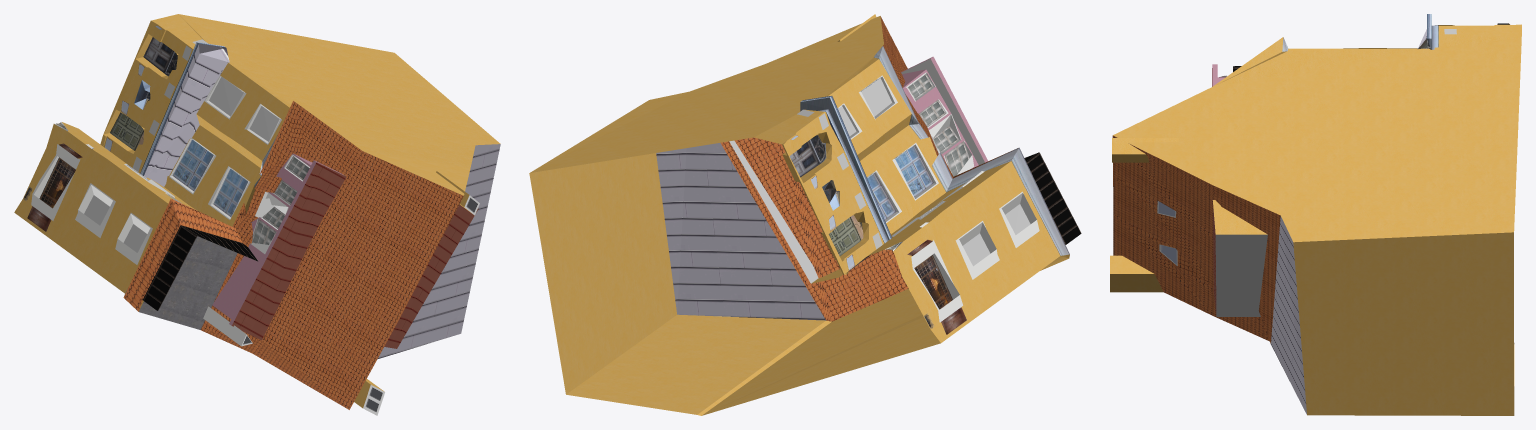
The model's file is Olevimagi_4-origo.obj.
3 views of the same model, side by side, from view 1: azimuth 30°, elevation 25°; view 2: azimuth 150°, elevation 25°; view 3: azimuth 270°, elevation 25° (orthographic). The views are drawn at different scales.
Parts seen in each view (by area): view 1: Olevimagi_4; view 2: Olevimagi_4; view 3: Olevimagi_4.
Part boxes in pixels (x1,y1,x2,y2): Olevimagi_4: (14,14,500,415); Olevimagi_4: (529,14,1081,415); Olevimagi_4: (1110,14,1521,415).
Size of the model in its own units: 18.44 by 13.5 by 16.76.
